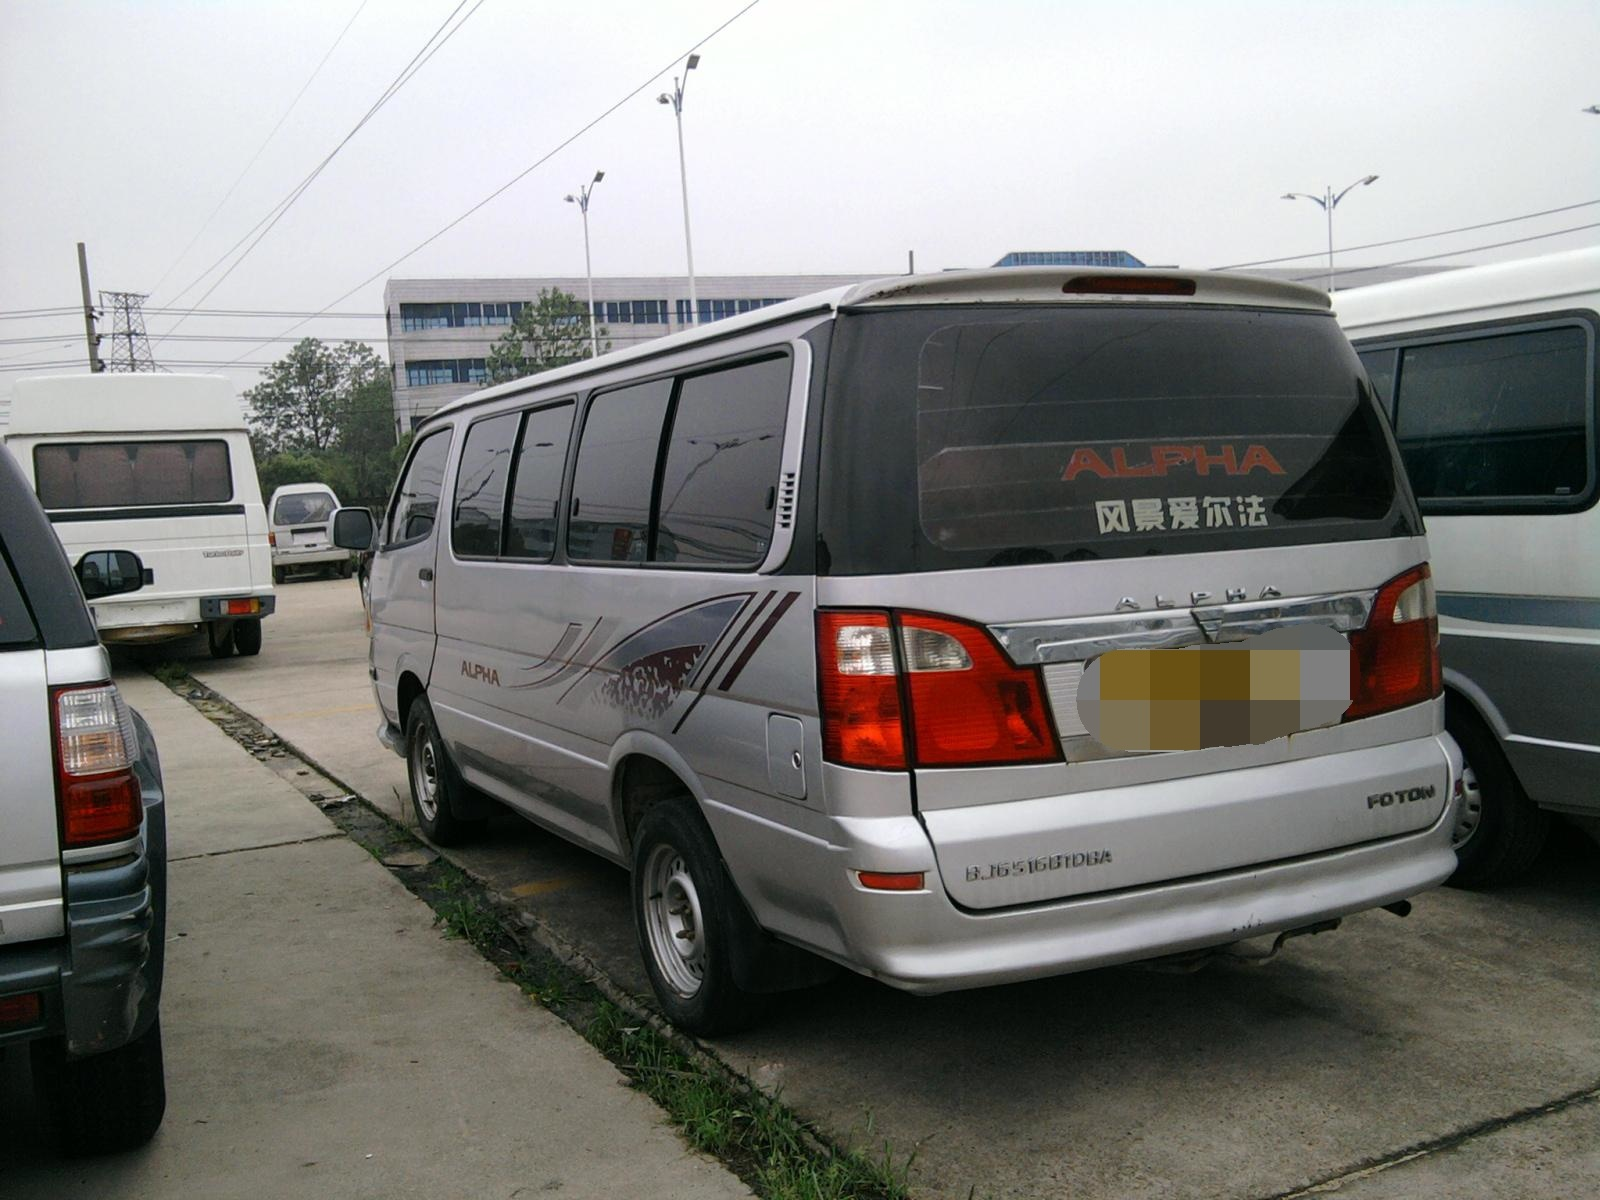minibus: (362, 268, 1477, 1008)
